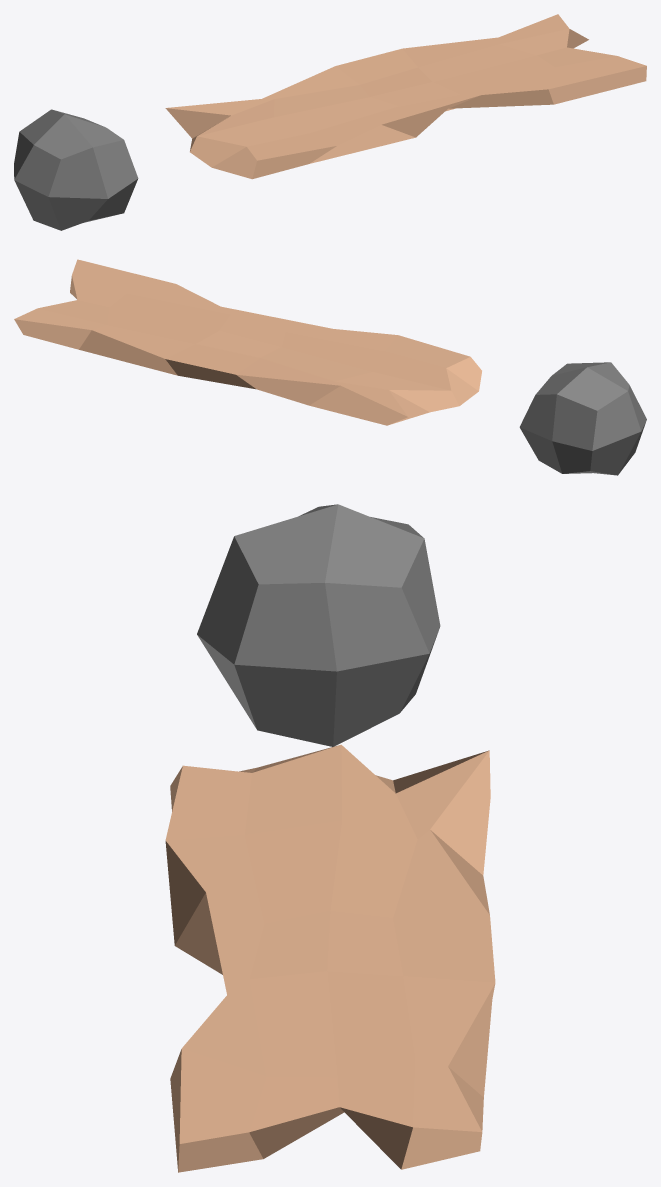
The model's file is Game Assets.fbx.
3 views of the same model, one above another, from view 1: azimuth 30°, elevation 25°; view 2: azimuth 150°, elevation 25°; view 3: azimuth 270°, elevation 25° (orthographic). The views are drawn at different scales.
Visible parts, largest first — view 1: Cube, Cube.001; view 2: Cube, Cube.001; view 3: Cube, Cube.001.
Boxes of the visible parts, x1,y1,x2,y2 form: Cube: (165, 14, 646, 179); Cube.001: (14, 109, 138, 230); Cube: (14, 259, 481, 425); Cube.001: (519, 362, 646, 475); Cube: (165, 744, 495, 1172); Cube.001: (197, 504, 440, 746).
Size of the model in its own units: 454 by 78.86 by 109.
